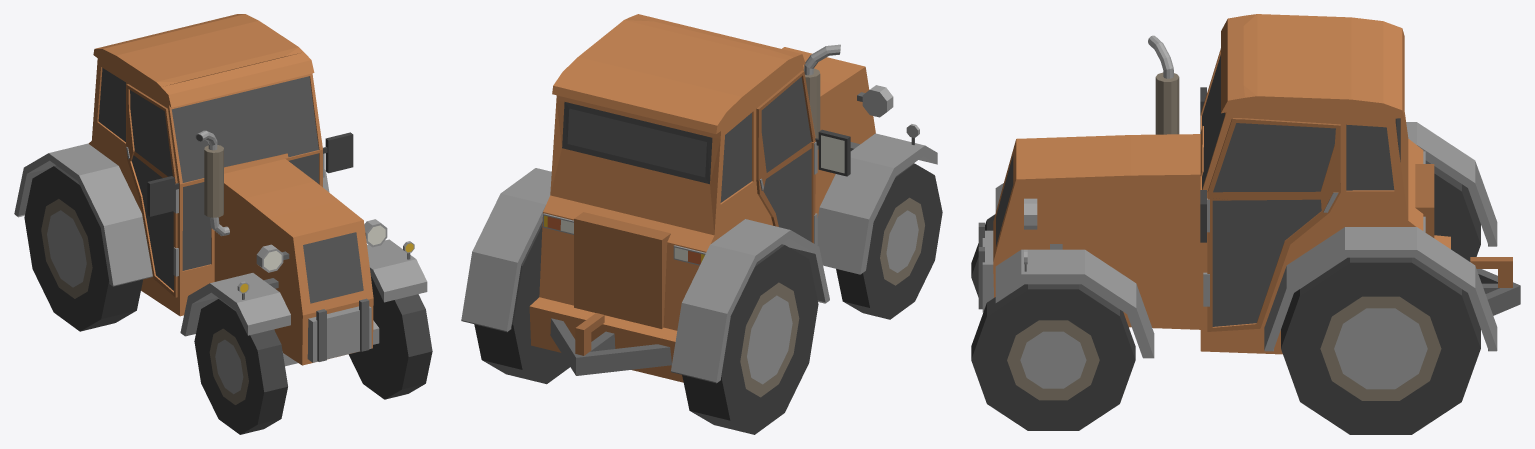
The model's file is kar1_1.fbx.
The picture shows the model from 3 angles, left to right: view 1: azimuth 30°, elevation 25°; view 2: azimuth 150°, elevation 25°; view 3: azimuth 270°, elevation 25°; orthographic projection. The views are drawn at different scales.
Visible parts, largest first — view 1: Boole_3, Cylinder_5, Cylinder_2, Cylinder; view 2: Boole_3, Cylinder_5, Cylinder_2, Cylinder_1; view 3: Boole_3, Cylinder_1, Cylinder, Cylinder_5.
Boxes of the visible parts, x1,y1,x2,y2 form: Boole_3: (14,14,427,366); Cylinder_5: (24,165,143,331); Cylinder_2: (194,298,287,434); Cylinder: (348,277,432,399); Boole_3: (461,14,937,383); Cylinder_5: (682,244,818,434); Cylinder_2: (836,163,942,319); Cylinder_1: (474,221,569,384); Boole_3: (978,14,1520,358); Cylinder_1: (1281,257,1480,434); Cylinder: (971,284,1135,430); Cylinder_5: (1425,160,1480,261).
Size of the model in its own units: 213 by 255 by 387.
